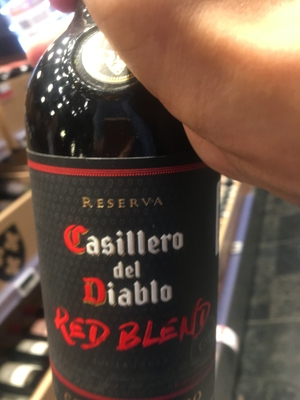casillero del diablo red blend: (21, 38, 229, 400)
